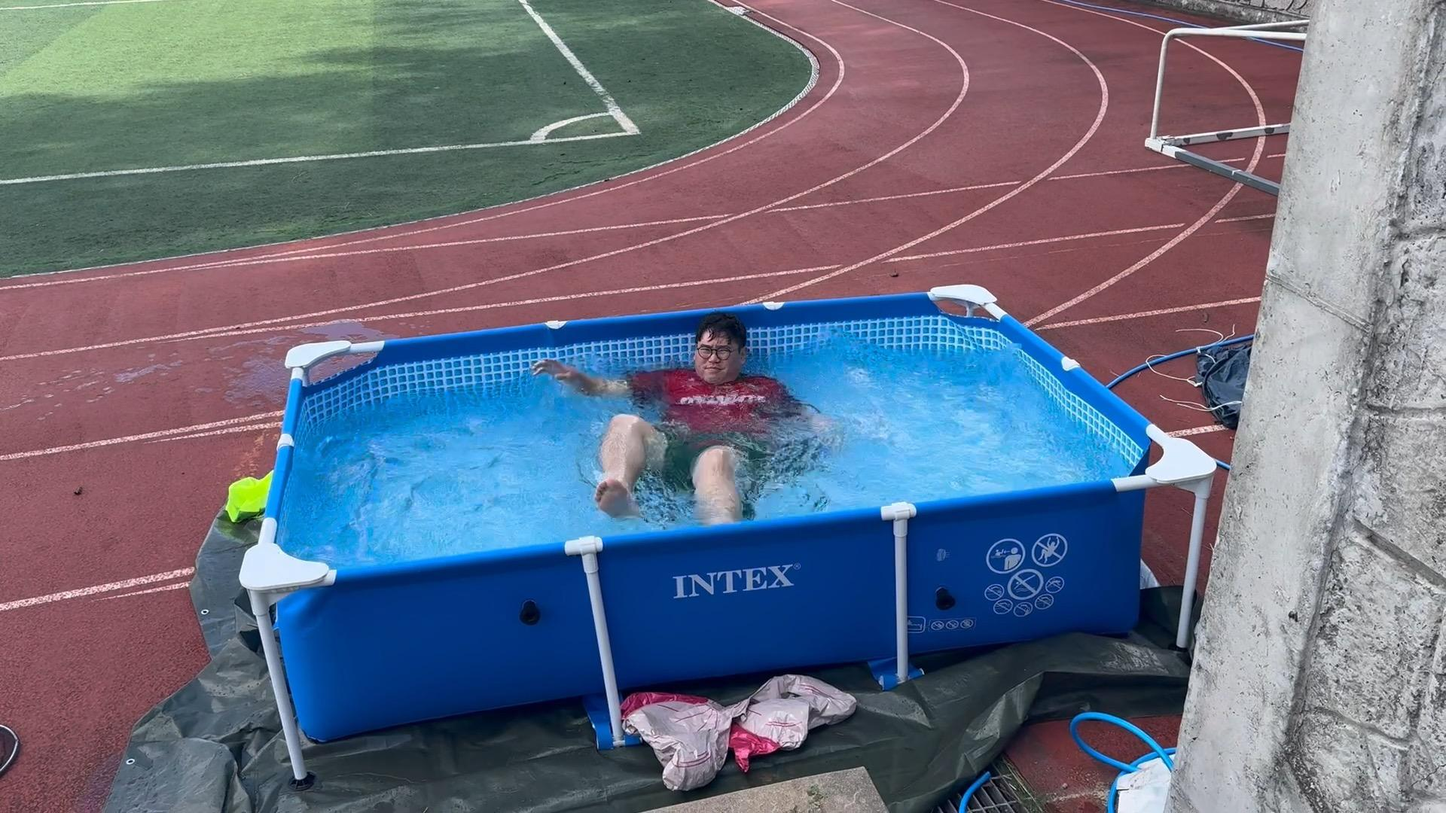Drowning: (515, 289, 842, 519)
